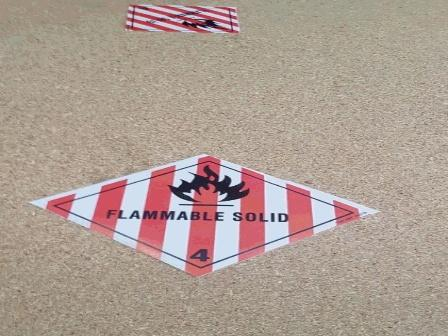flammable-solid: (27, 153, 382, 276), (123, 3, 241, 32)
